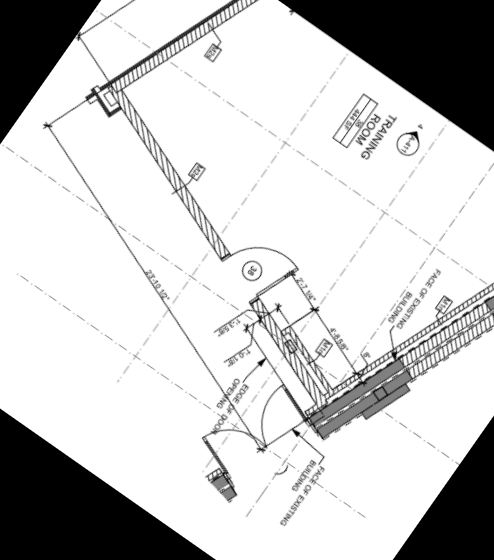door: (209, 222, 306, 314)
double door: (193, 363, 316, 494)
wall: (314, 150, 494, 469), (58, 74, 276, 270), (90, 0, 270, 138), (270, 323, 353, 397)
